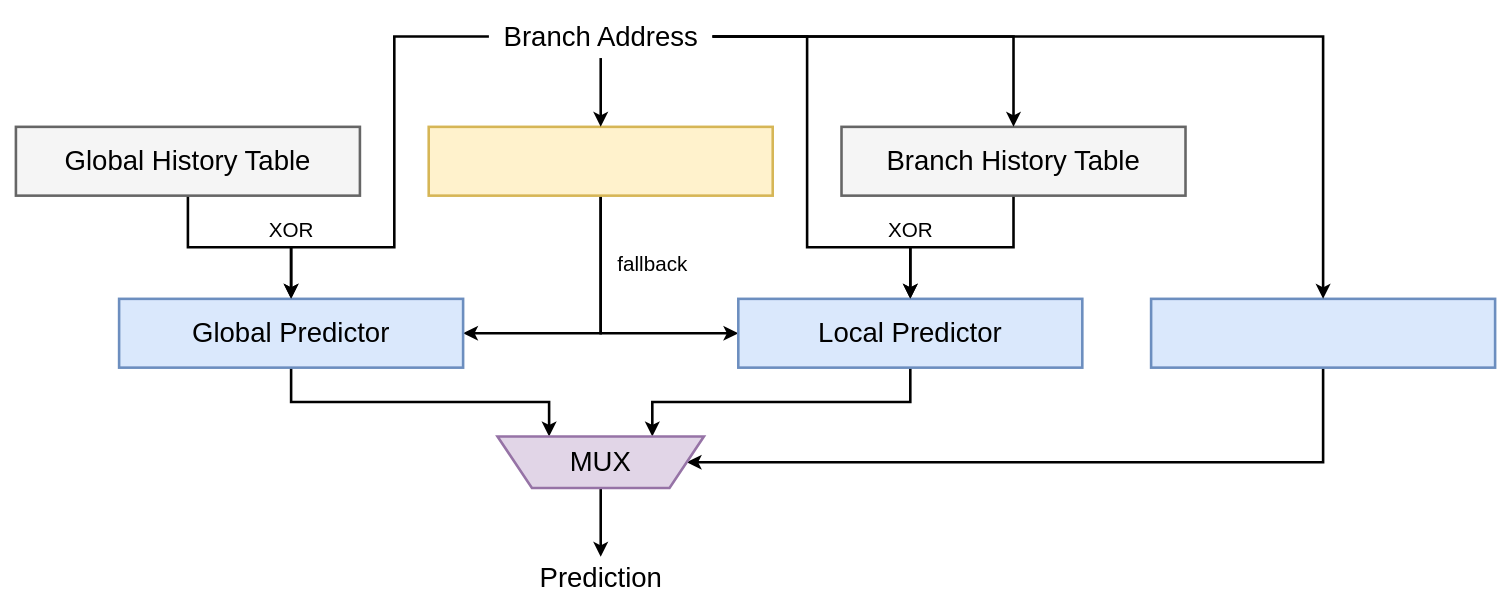
Some shapes in this 1511 by 614 pixel diagram are drawn without their labels. The centre of each missing label's shape, as x and y in pixels:
"Selector" belongs at pixel 1322 333.
"Static Predictor (BTFNT)" belongs at pixel 600 161.
